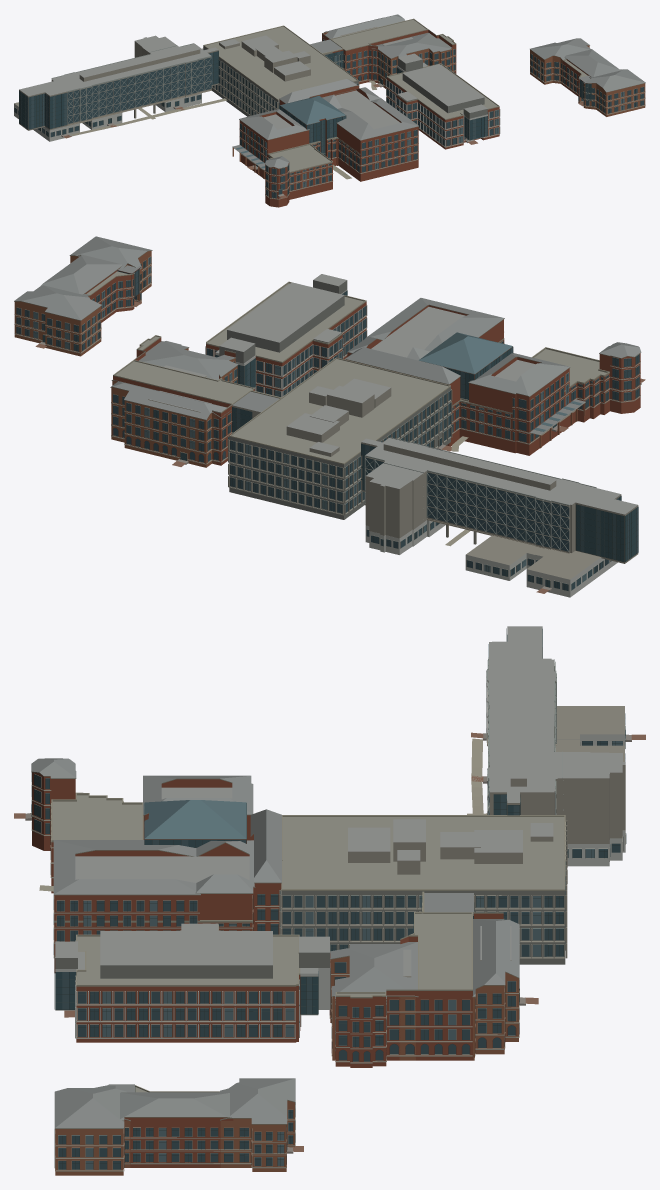
Rendered from site.glb.
3 views of the same model, one above another, from view 1: azimuth 30°, elevation 25°; view 2: azimuth 150°, elevation 25°; view 3: azimuth 270°, elevation 25° (orthographic). The views are drawn at different scales.
Parts seen in each view (by area): view 1: roof-34f891de, roof-a5a51275, context-b0038, context-b0040, context-b0045, roof-0ca67b60, northeast-science-grounds, roof-0f5fbbd5; view 2: roof-a5a51275, roof-34f891de, context-b0038, context-b0045, context-b0040, roof-0ca67b60, roof-0f5fbbd5, northeast-science-grounds; view 3: roof-34f891de, context-b0038, context-b0040, context-b0045, roof-a5a51275, roof-0ca67b60, northeast-science-grounds.
Part boxes in pixels (x1,y1,x2,y2): roof-34f891de: (232,79,418,207); roof-a5a51275: (14,35,218,141); context-b0038: (202,25,359,116); context-b0040: (386,53,500,149); context-b0045: (310,14,456,88); roof-0ca67b60: (530,38,645,116); northeast-science-grounds: (61,80,583,198); roof-0f5fbbd5: (82,113,122,129); roof-a5a51275: (361,437,638,597); roof-34f891de: (345,298,641,455); context-b0038: (228,357,452,519); context-b0045: (110,335,281,467); context-b0040: (205,274,367,397); roof-0ca67b60: (14,236,152,356); roof-0f5fbbd5: (465,535,543,580); northeast-science-grounds: (35,301,645,593); roof-34f891de: (31,758,281,972); context-b0038: (279,815,567,964); context-b0040: (54,923,330,1042); context-b0045: (329,891,519,1067); roof-a5a51275: (486,626,626,866); roof-0ca67b60: (54,1078,295,1175); northeast-science-grounds: (14,732,645,1153).
Bounding box in the file's own units: 250 × 27.66 × 144.
